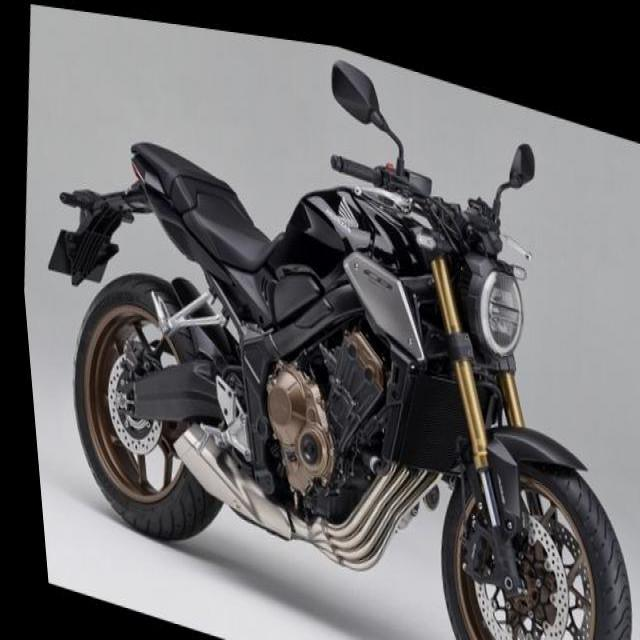CB650R: (23, 81, 639, 639)
